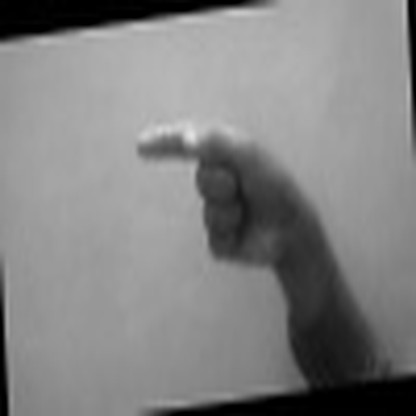g: (132, 111, 311, 270)
